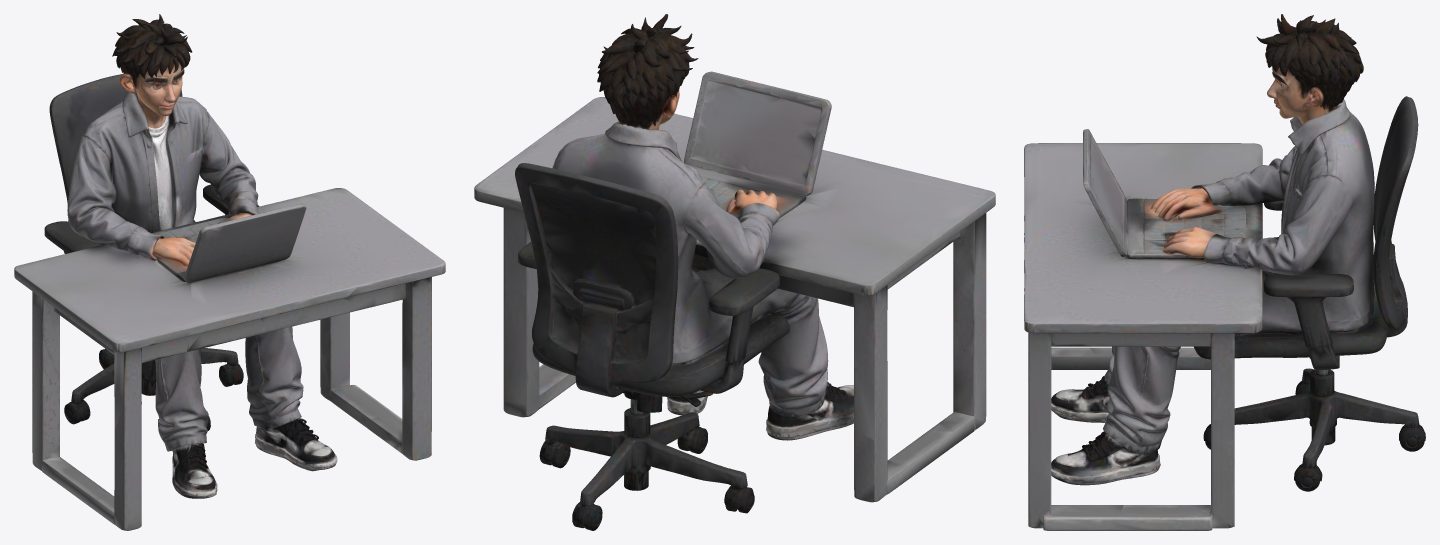
Rendered from office-avatar-mobile-v1.glb.
3 views of the same model, side by side, from view 1: azimuth 30°, elevation 25°; view 2: azimuth 150°, elevation 25°; view 3: azimuth 270°, elevation 25° (orthographic). The views are drawn at different scales.
Parts seen in each view (by area): view 1: node_0; view 2: node_0; view 3: node_0.
Part boxes in pixels (box(x1,y1,x2,y2)): node_0: box(14, 14, 445, 530); node_0: box(474, 14, 995, 530); node_0: box(1024, 14, 1425, 530).
Bounding box in the file's own units: 0.7028 × 0.7787 × 0.6599.
Materials: 1 (1 with a texture image).
